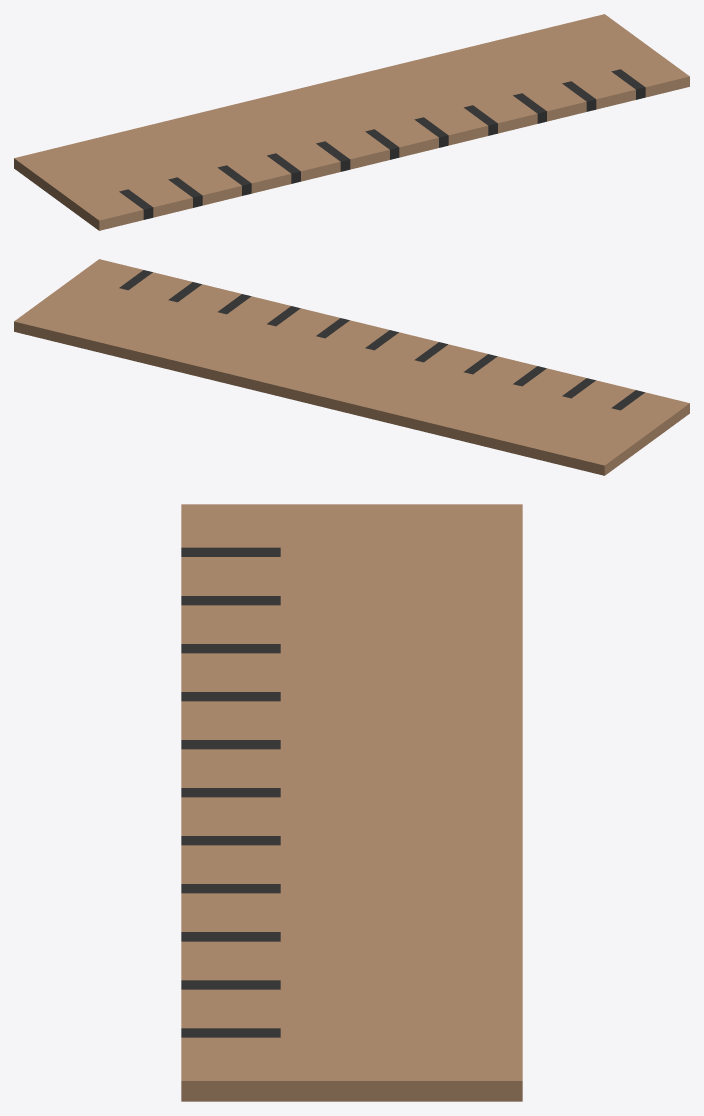
The model's file is Int_OfficeRuler01_1.fbx.
The picture shows the model from 3 angles, top to bottom: view 1: azimuth 30°, elevation 25°; view 2: azimuth 150°, elevation 25°; view 3: azimuth 270°, elevation 25°; orthographic projection. The views are drawn at different scales.
Visible parts, largest first — view 1: Int_OfficeRuler01_1; view 2: Int_OfficeRuler01_1; view 3: Int_OfficeRuler01_1.
Boxes of the visible parts, x1=… form: Int_OfficeRuler01_1: x1=14, y1=14, x2=689, y2=230; Int_OfficeRuler01_1: x1=14, y1=259, x2=689, y2=475; Int_OfficeRuler01_1: x1=181, y1=504, x2=522, y2=1101.
Size of what is drawn, in the model's own units: 30 by 7.5 by 0.5.
